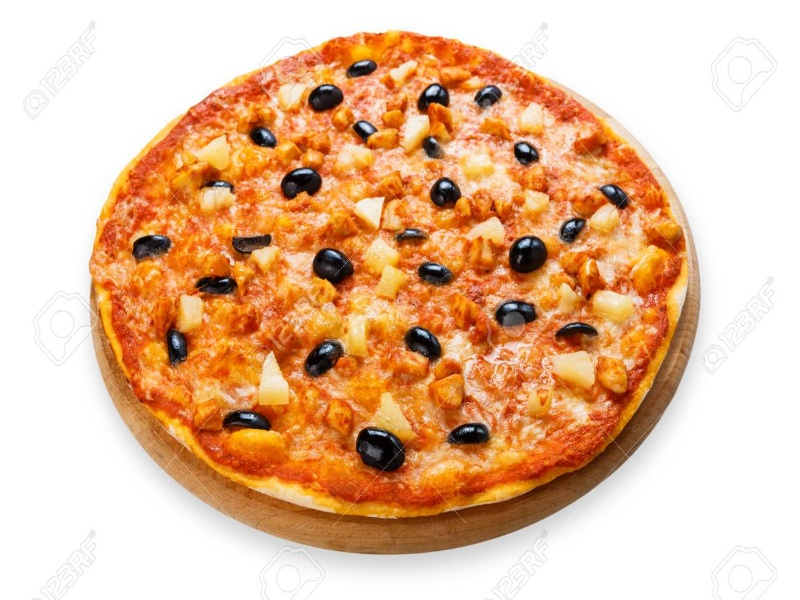olive noir: (349, 419, 414, 478), (309, 244, 356, 286), (305, 334, 345, 381), (511, 232, 552, 277), (301, 80, 351, 115), (491, 298, 540, 331), (426, 169, 465, 210), (220, 403, 274, 432), (277, 166, 321, 200), (403, 327, 445, 362), (194, 269, 243, 297), (598, 172, 629, 216), (126, 234, 174, 262), (504, 131, 542, 166), (445, 424, 498, 448), (415, 262, 462, 288), (557, 212, 588, 248), (157, 332, 190, 363), (423, 79, 449, 116), (472, 82, 502, 112), (350, 114, 383, 141), (243, 122, 276, 148)
